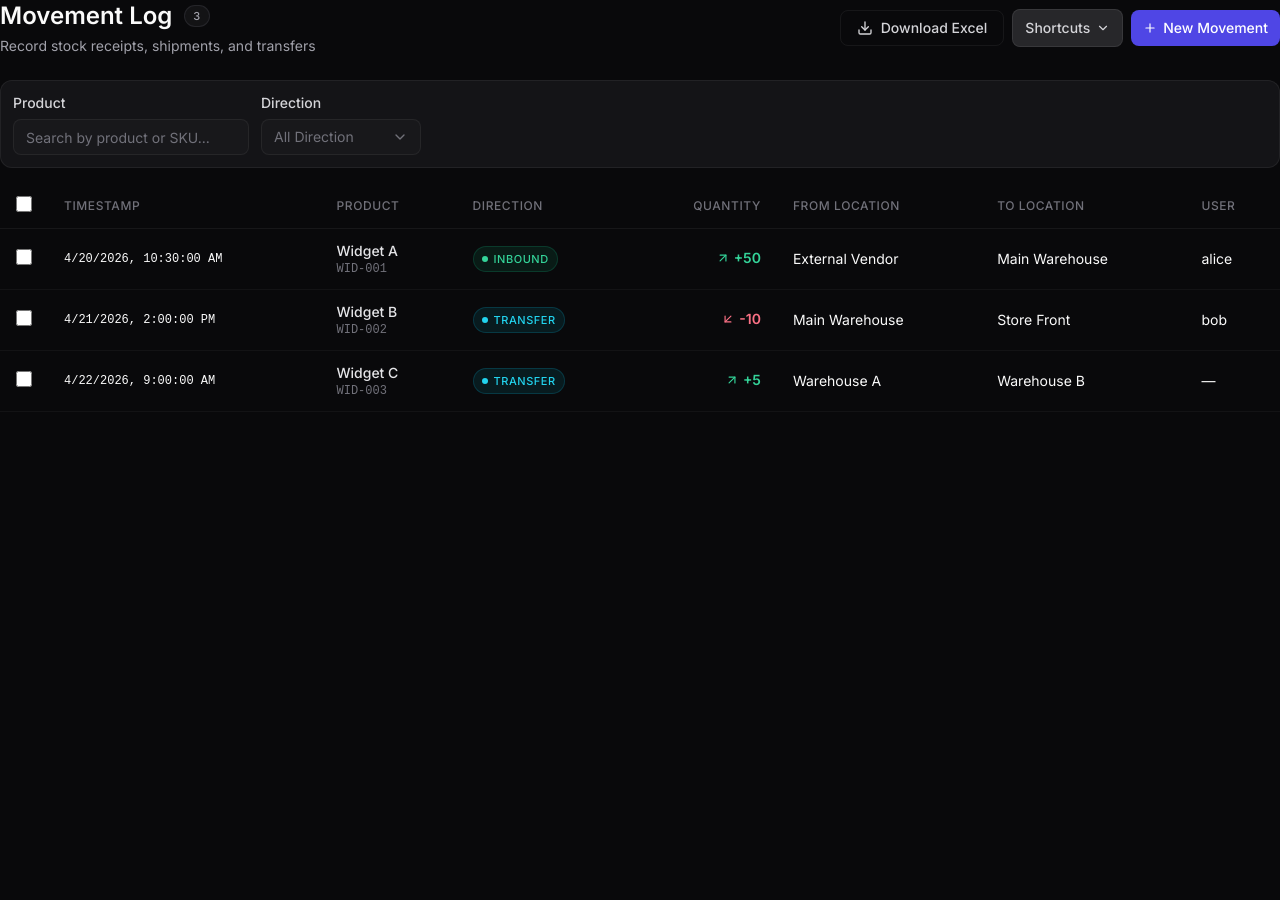
it: MovementList bulk-delete flow › modal renders WITHOUT cascade toggle and WITH audit-loss warning
The image size is (1280, 900).
Click the checkbox named "Select Widget A".
click(24, 256)  # box [16, 248, 32, 264]
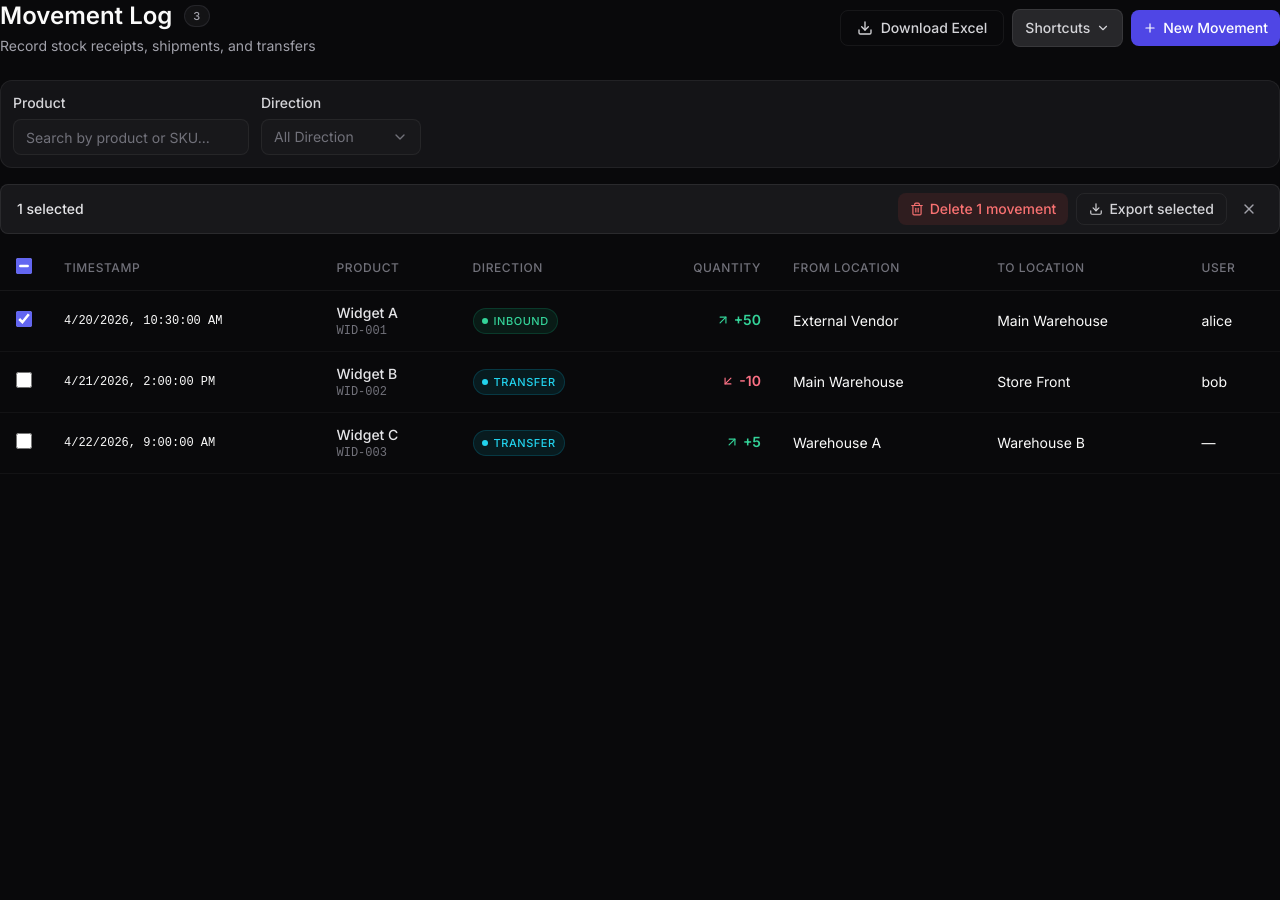
Click the button "Delete 1 movement".
click(983, 209)  # box [898, 193, 1068, 225]
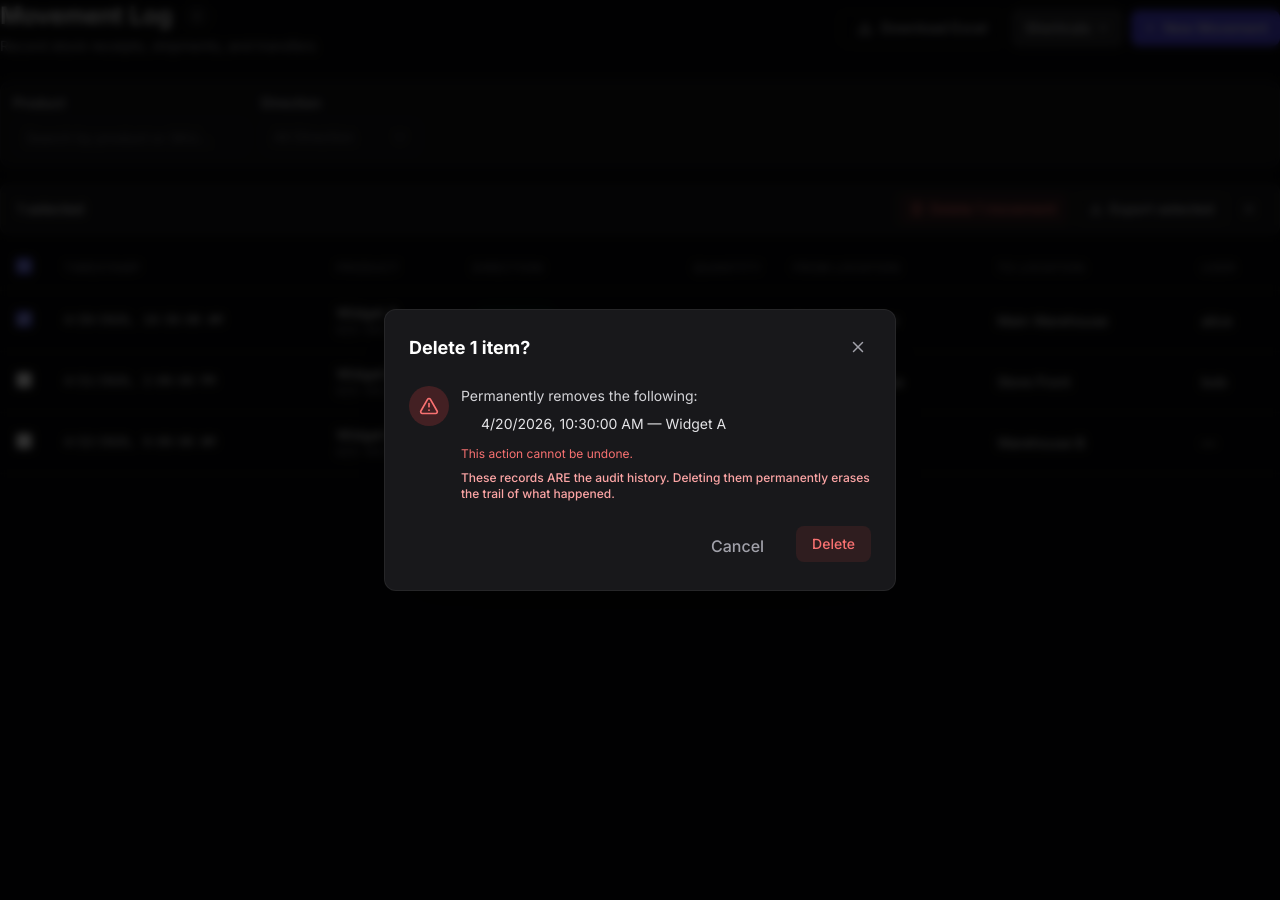
Expected: the button with test id "bulk-delete-confirm" is shown, [796, 526, 871, 562]
Expected: the text with test id "bulk-delete-extra-warning" shows "audit history", [461, 470, 870, 501]
